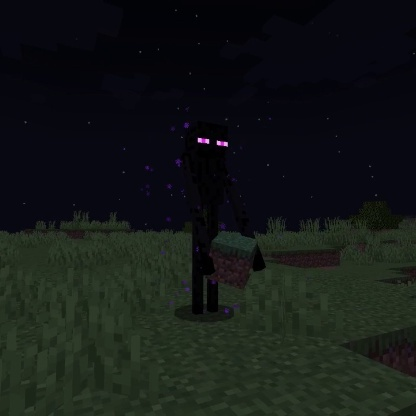enderman: (176, 117, 268, 319)
